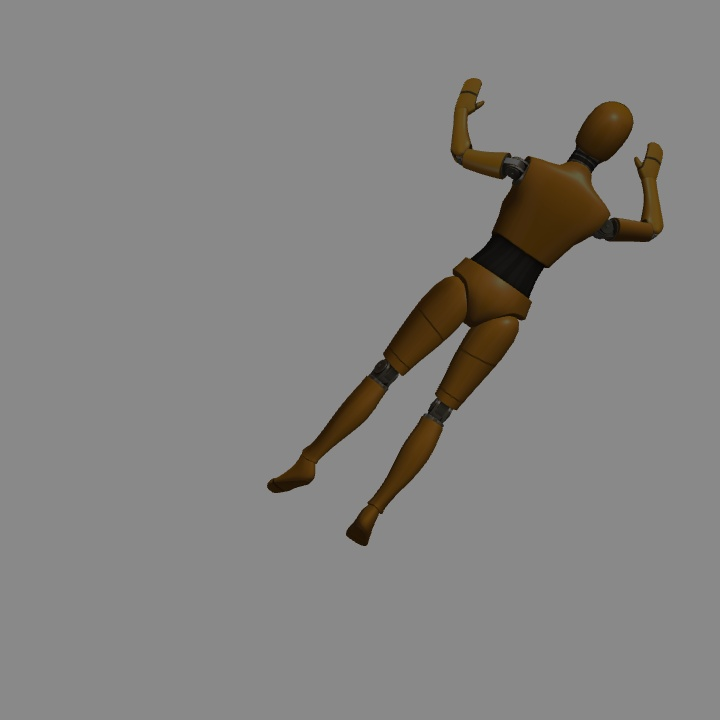victim: (270, 96, 659, 544)
